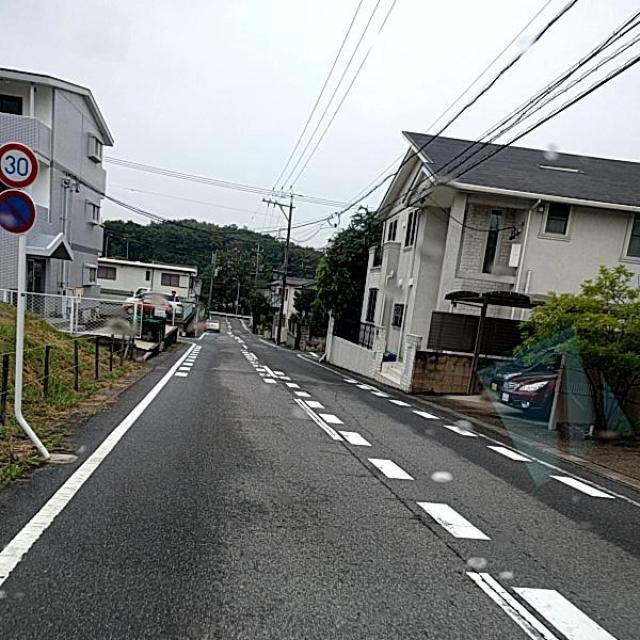Crack: (198, 322, 598, 640)
